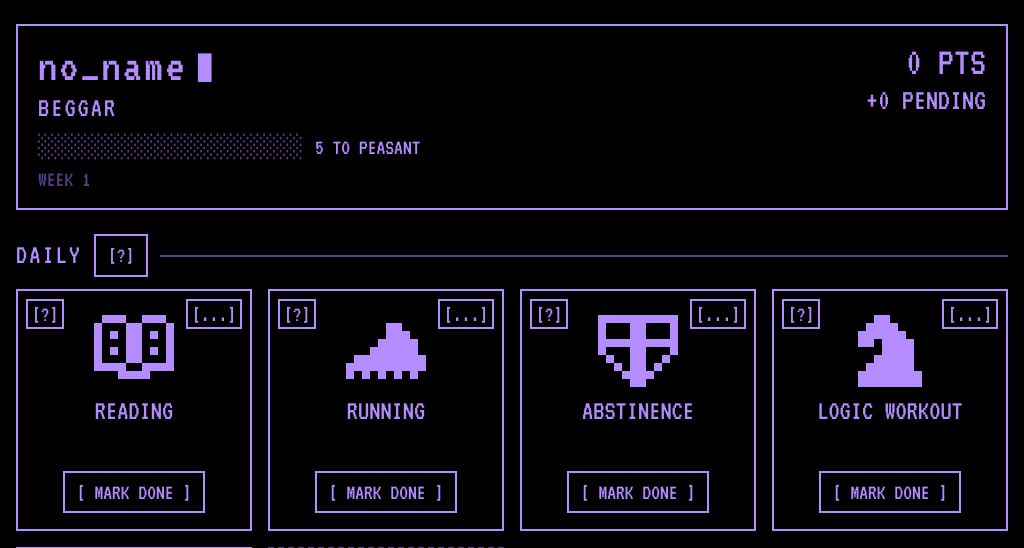
Test: App › falls back when a task has no description
Click the button named "About Reading" at (45, 314), box [26,299,64,329]
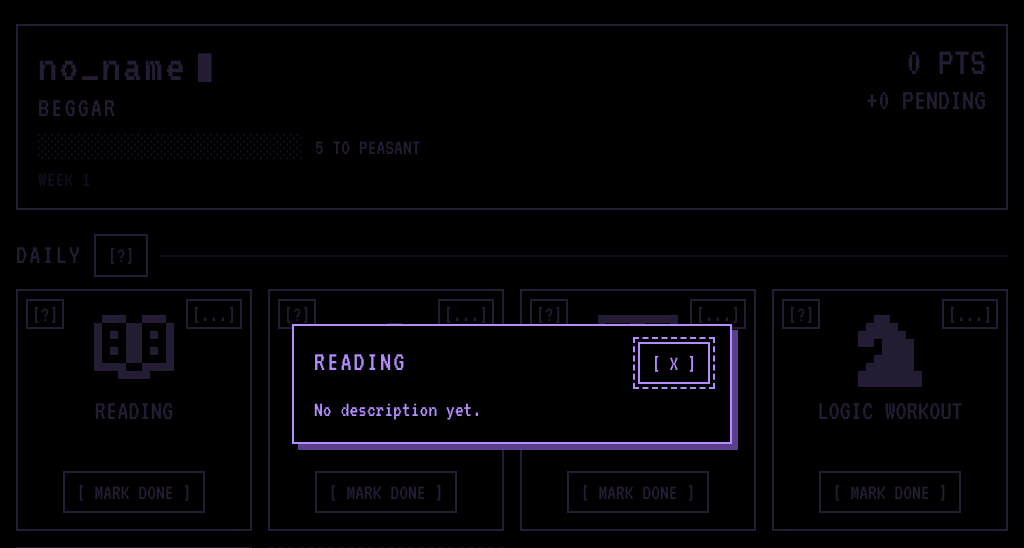
Now the text "No description yet." is shown, box [314,398,481,420]
